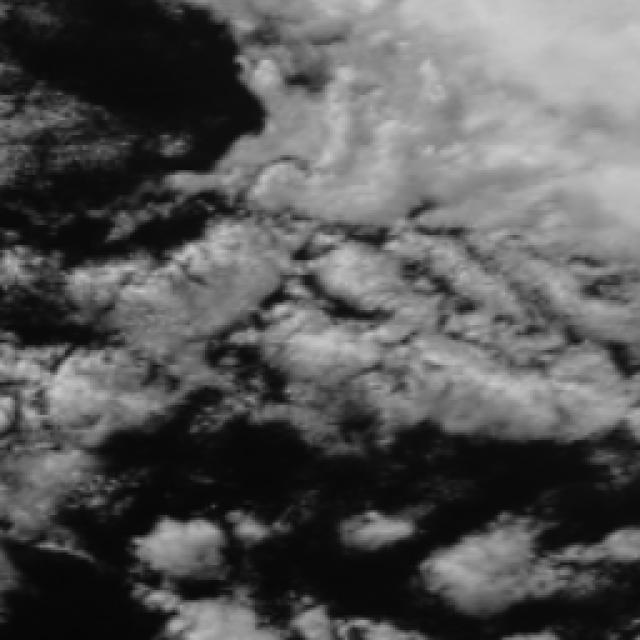CB: (426, 2, 640, 167)
